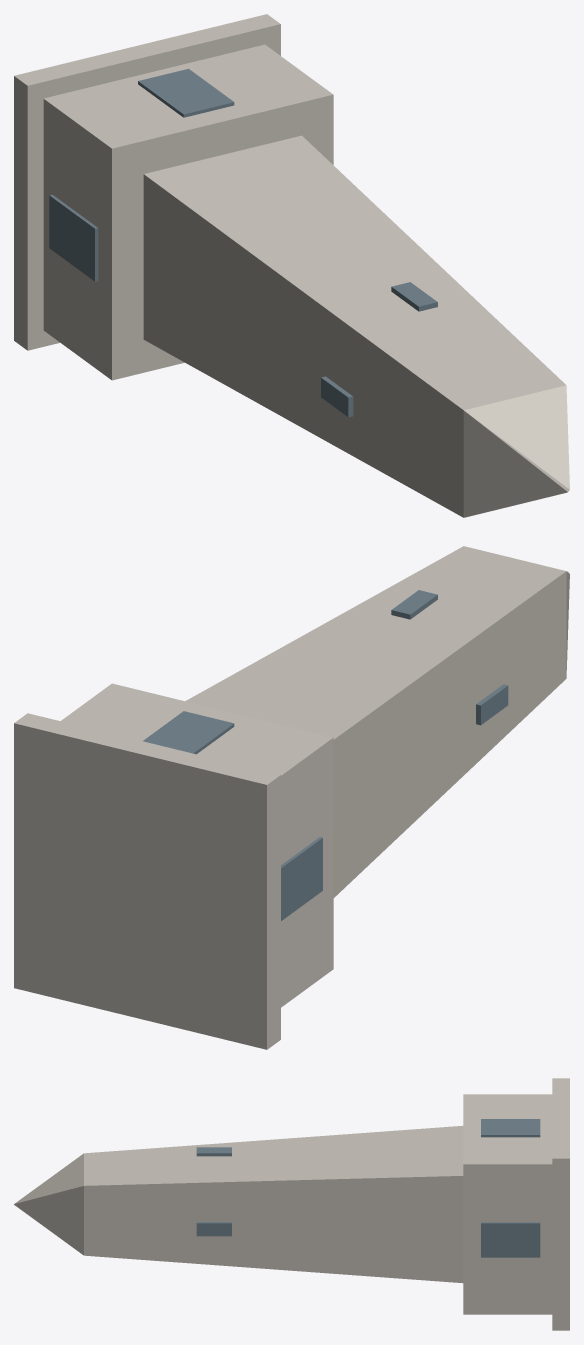
Rendered from r-143-saratoga-monument.glb.
3 views of the same model, one above another, from view 1: azimuth 30°, elevation 25°; view 2: azimuth 150°, elevation 25°; view 3: azimuth 270°, elevation 25° (orthographic). The views are drawn at different scales.
Parts seen in each view (by area): view 1: stone, niches; view 2: stone, niches; view 3: stone, niches.
Part boxes in pixels (<box>): stone: <box>14,14,569,517</box>; niches: <box>49,68,437,417</box>; stone: <box>14,546,569,1049</box>; niches: <box>143,590,508,920</box>; stone: <box>14,1078,569,1330</box>; niches: <box>196,1119,540,1257</box>.
Size of the model in its own units: 15998 by 15998 by 46900.
